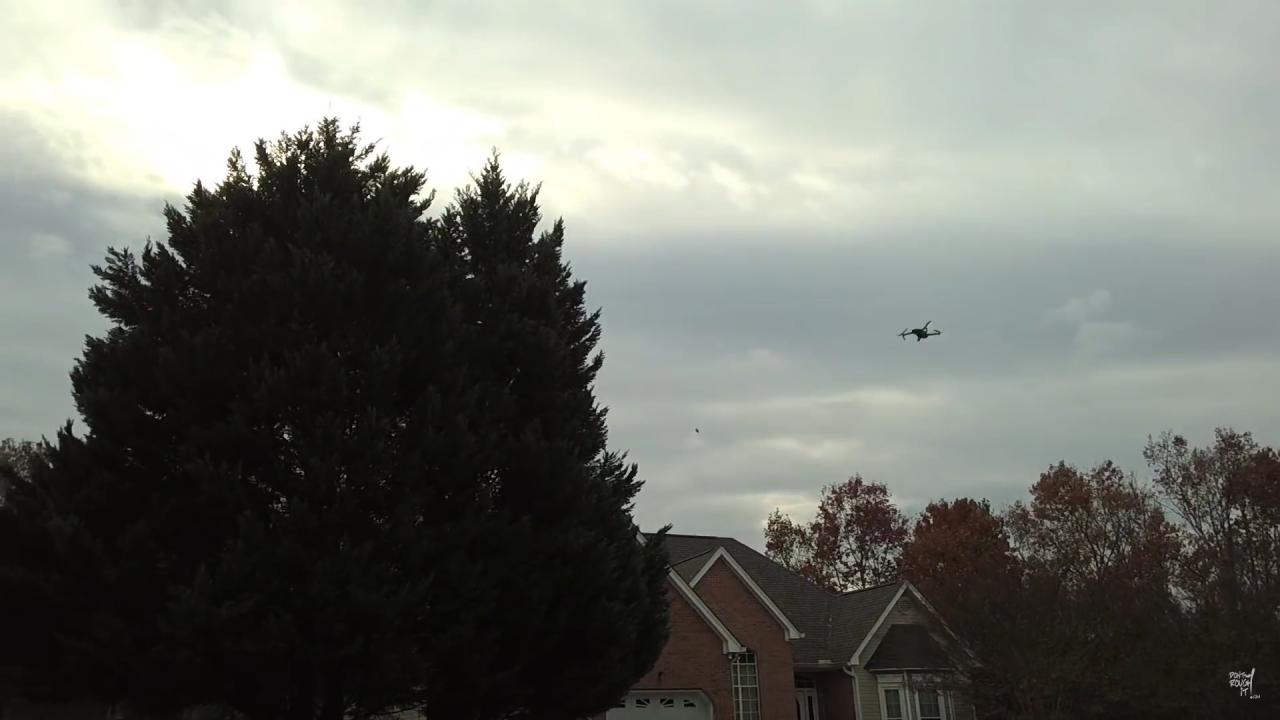Drone: (892, 313, 949, 351)
